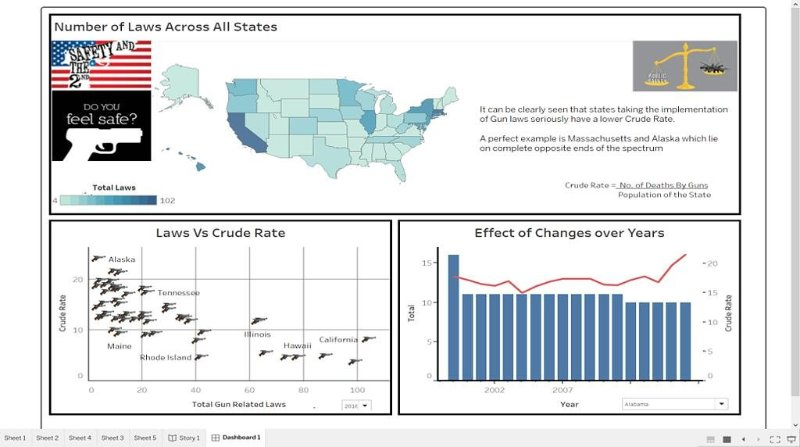

The dashboard page shown, as its layout file describes it:
{"tool":"tableau","page":{"name":"Dashboard 1","canvas":[1000,1000],"units":"permille","ordinal":0},"visuals":[{"type":"worksheet","title":"Sheet 1","mark":"Automatic","box":[4.1,6.1,991.8,493.8]},{"type":"worksheet","title":"Sheet 1 (2)","mark":"Automatic","box":[213.4,79.9,111.3,150.5]},{"type":"legend","title":"Sheet 1","param":"[federated.1r6y2qw00h6ft21b6abwj053bq90].[sum:Total Laws:qk]","box":[11.9,411.7,72.2,76.8]},{"type":"worksheet","title":"Sheet 3","mark":"Automatic","rows":["Crude Rate"],"cols":["Total Laws"],"box":[4.1,500,495.8,493.9]},{"type":"worksheet","title":"Sheet 4","mark":"Automatic","rows":["Crude Rate","Total Laws"],"cols":["year"],"box":[499.9,500,496,493.9]},{"type":"filter","title":"Sheet 3","param":"[federated.1r6y2qw00h6ft21b6abwj053bq90].[yr:year:ok]","box":[9.3,934,82.5,52.2]}]}

Visuals, with their boxes on the dashboard's canvas, which has no fixed pixel size, in thousandths of its width and height (x1, y1, x2, y2). These are canvas units, not pixel positions in the 800x447 screenshot, which may show the page scaled, cropped or inside an application window:
"Sheet 1" worksheet: left=4, top=6, right=996, bottom=500
"Sheet 1 (2)" worksheet: left=213, top=80, right=325, bottom=230
"Sheet 1" legend: left=12, top=412, right=84, bottom=488
"Sheet 3" worksheet: left=4, top=500, right=500, bottom=994
"Sheet 4" worksheet: left=500, top=500, right=996, bottom=994
"Sheet 3" filter: left=9, top=934, right=92, bottom=986
